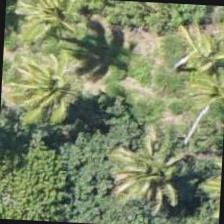Kelapa_Sawit: (4, 44, 98, 140), (108, 127, 202, 222), (146, 7, 223, 102), (13, 0, 107, 68)
